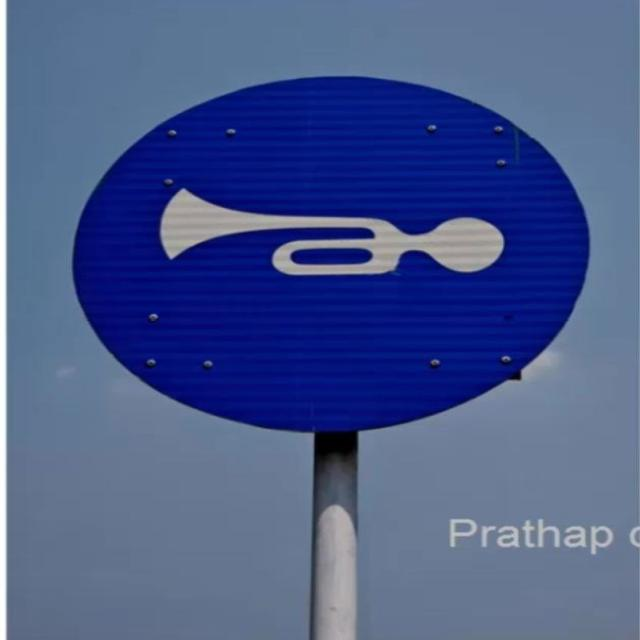compulsory_soundhorn: (73, 76, 590, 426)
